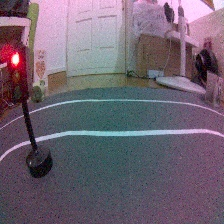red: (5, 43, 55, 182)
